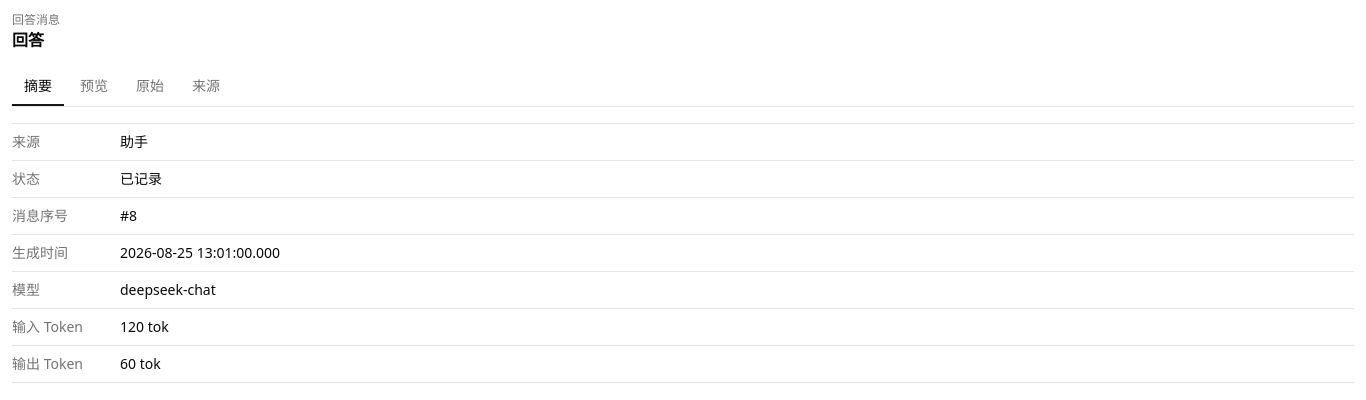
Test: TrajectoryNodeDetailPanel › 最终回答 Preview 只展示最终正文，Raw 排除 ThinkingBlock，Source 不泄露会话私有字段
Click the tab "预览". click: (94, 87)
box: left=68, top=68, right=120, bottom=106
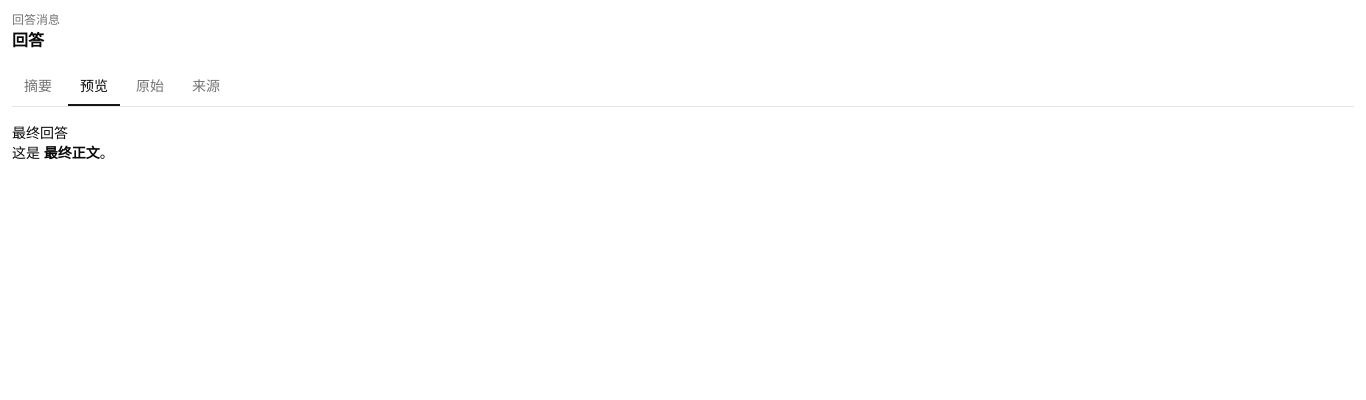
Expected: the panel named "预览" does not show "不要在最终消息重复的思考", left=12, top=123, right=114, bottom=162
Now the heading "最终回答" is shown, box left=12, top=123, right=68, bottom=142
Now the text "最终正文" is shown, box left=44, top=143, right=100, bottom=162
Click the tab "原始". click: (150, 87)
box: left=124, top=68, right=176, bottom=106
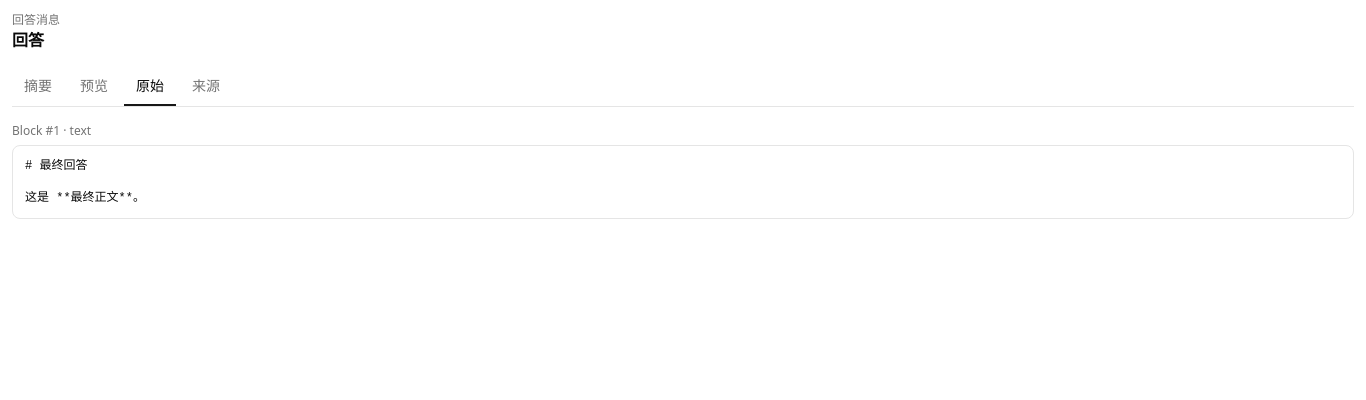
Expected: the panel named "原始" does not show "不要在最终消息重复的思考", left=12, top=107, right=1354, bottom=219
Now the panel named "原始" shows "# 最终回答", box left=25, top=159, right=145, bottom=205
Click the tab "来源". click: (206, 87)
box: left=180, top=68, right=232, bottom=106
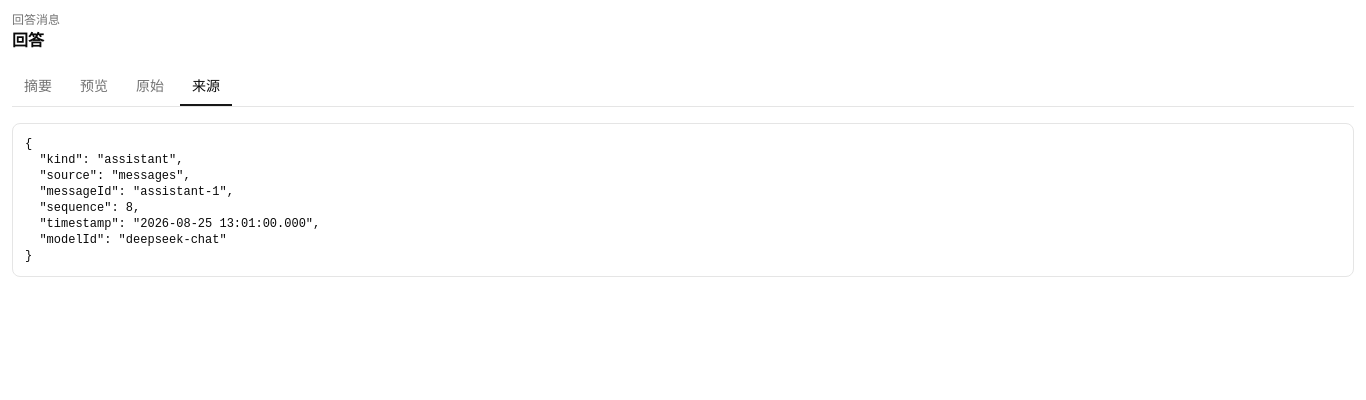
Now the panel named "来源" shows "\"kind\": \"assistant\"", box left=25, top=137, right=320, bottom=263
Now the panel named "来源" shows "\"modelId\": \"deepseek-chat\"", box left=25, top=137, right=320, bottom=263
Now the panel named "来源" shows "\"sequence\": 8", box left=25, top=137, right=320, bottom=263
